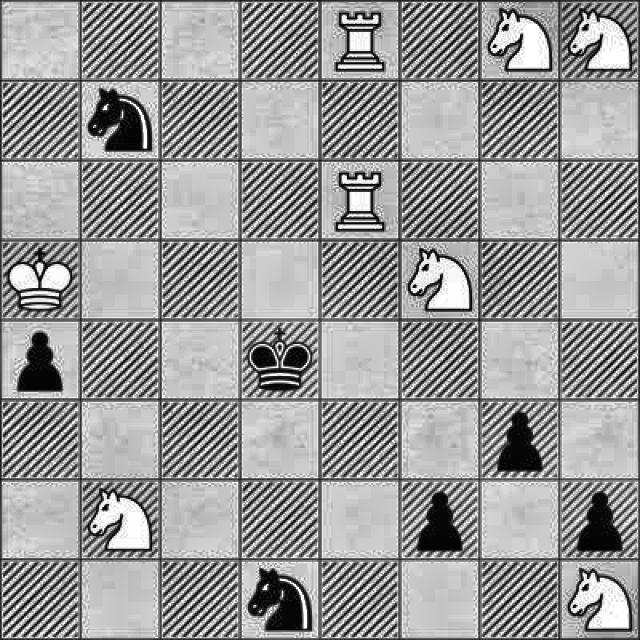Black Knight: (245, 561, 317, 640), (89, 83, 158, 161)
black king: (244, 323, 315, 396)
black pawn: (566, 482, 634, 558), (485, 402, 550, 476), (9, 325, 71, 398), (408, 490, 468, 554)
white king: (3, 239, 77, 315)
white rook: (327, 157, 392, 234), (328, 8, 392, 75)
whiteknight: (562, 560, 640, 640), (403, 240, 478, 320), (81, 482, 159, 557), (482, 3, 557, 80), (565, 2, 639, 79)
